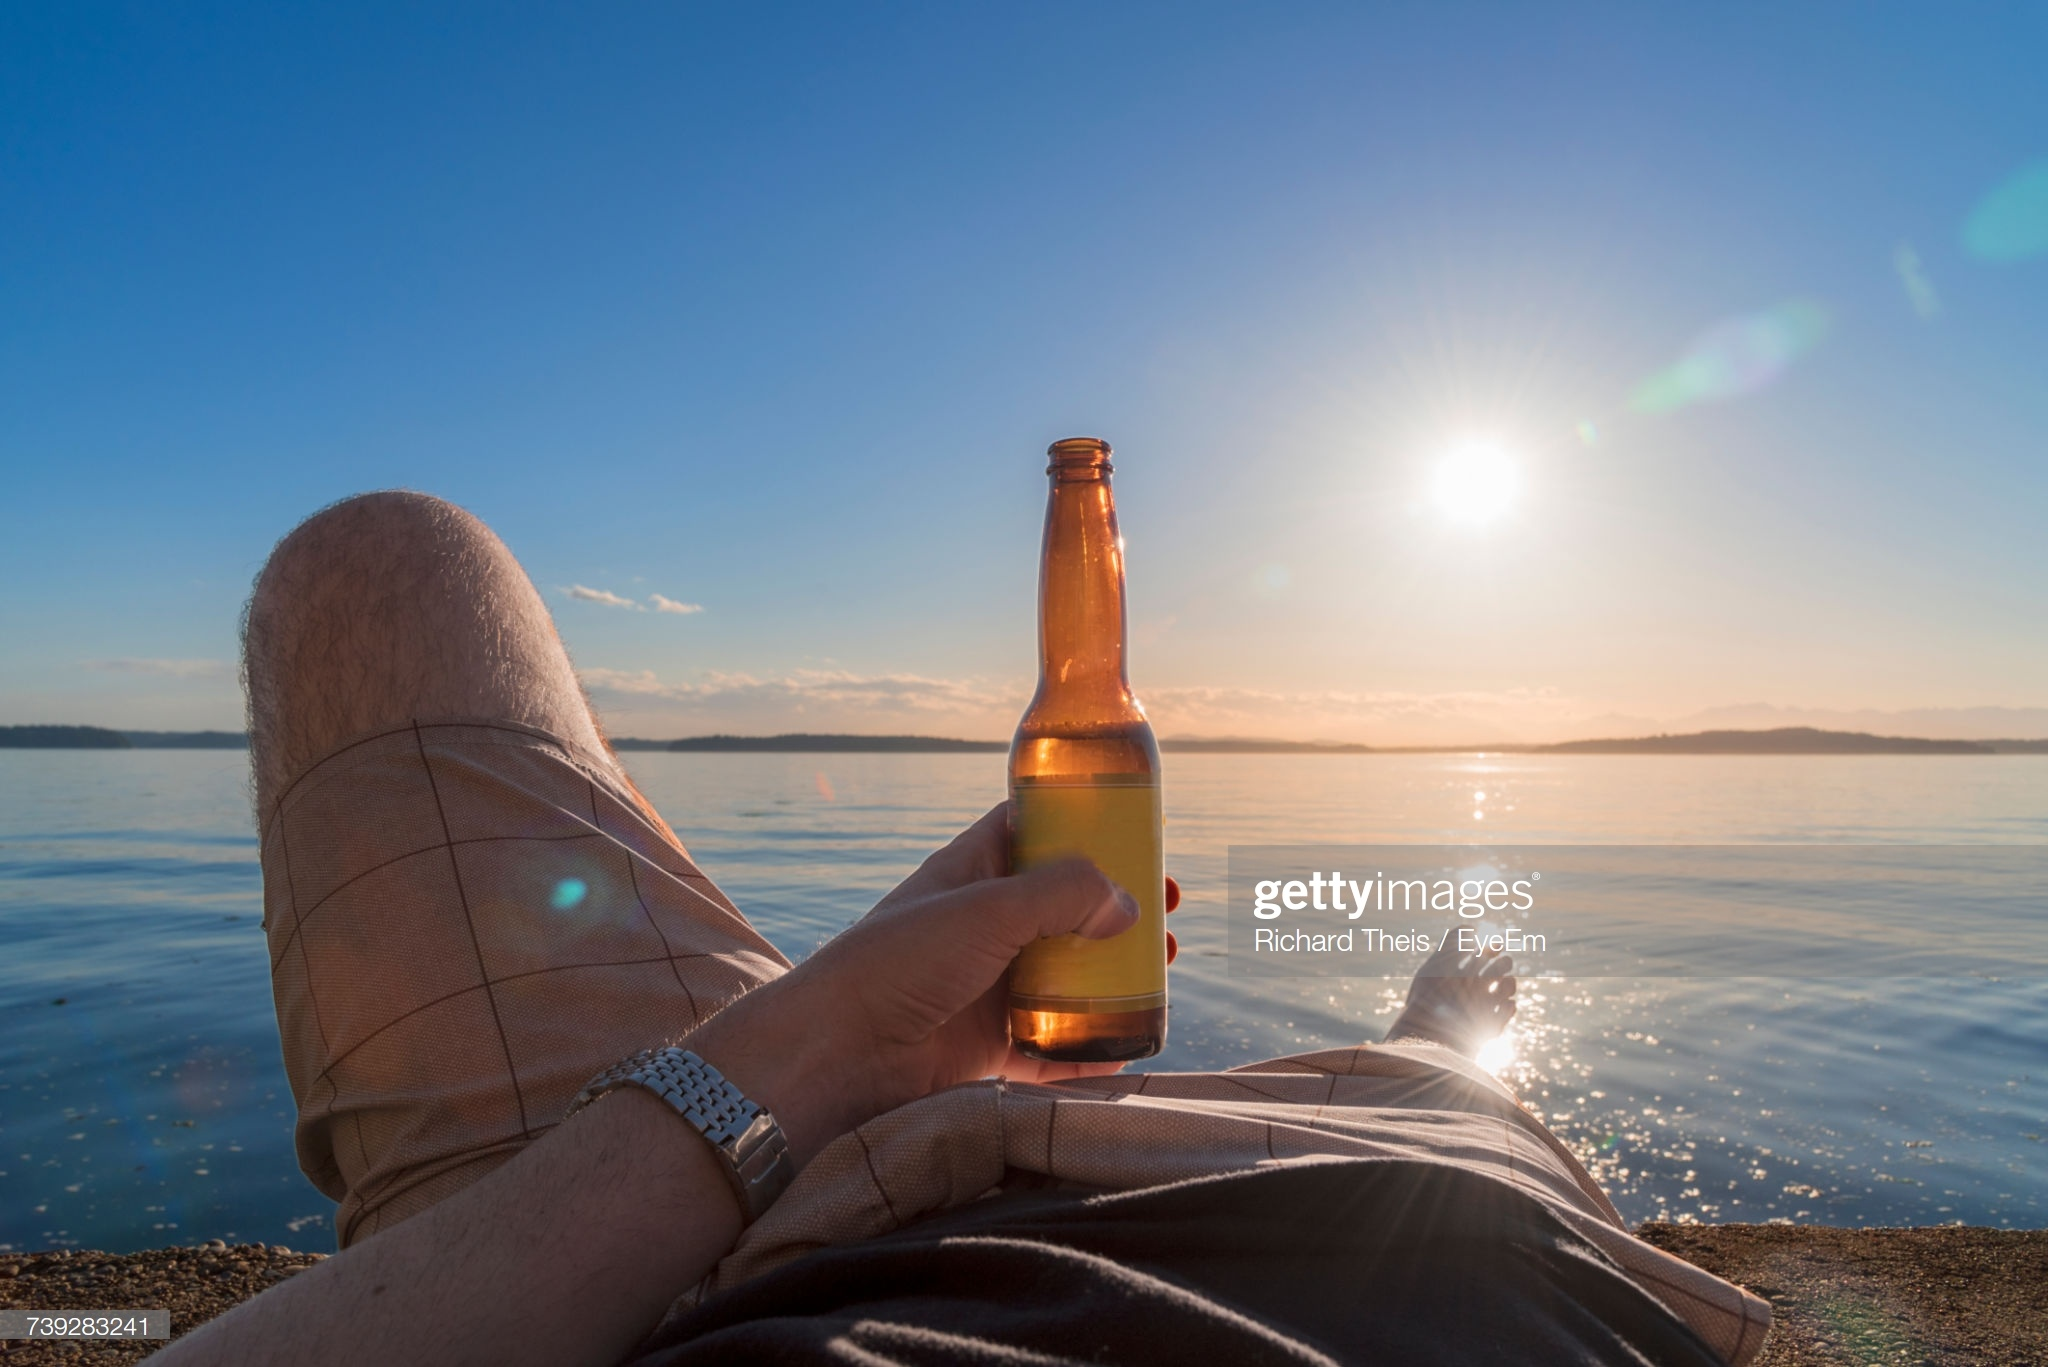beerBottle: (982, 432, 1165, 1074)
